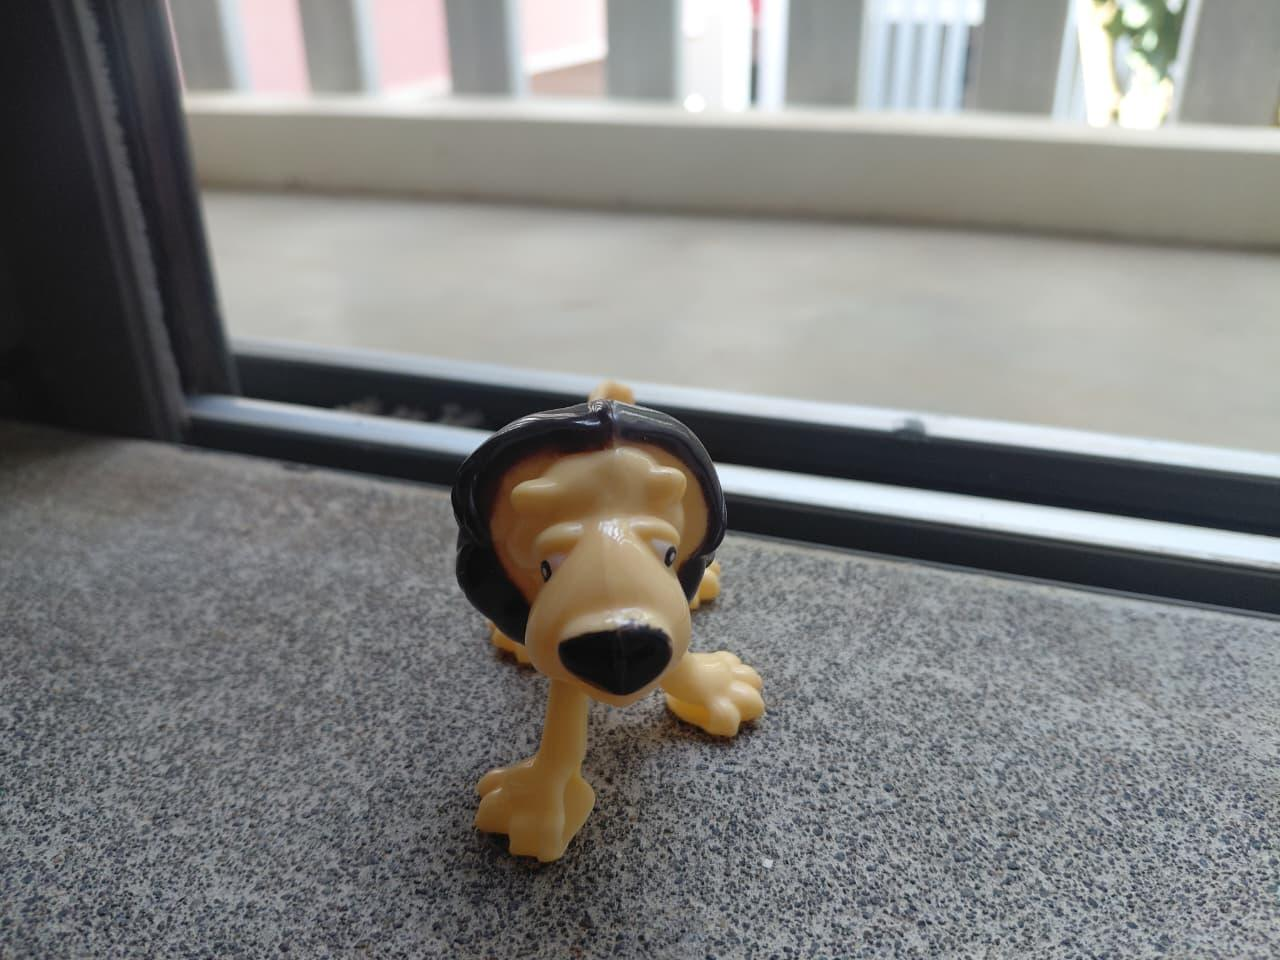lion: (408, 360, 901, 885)
